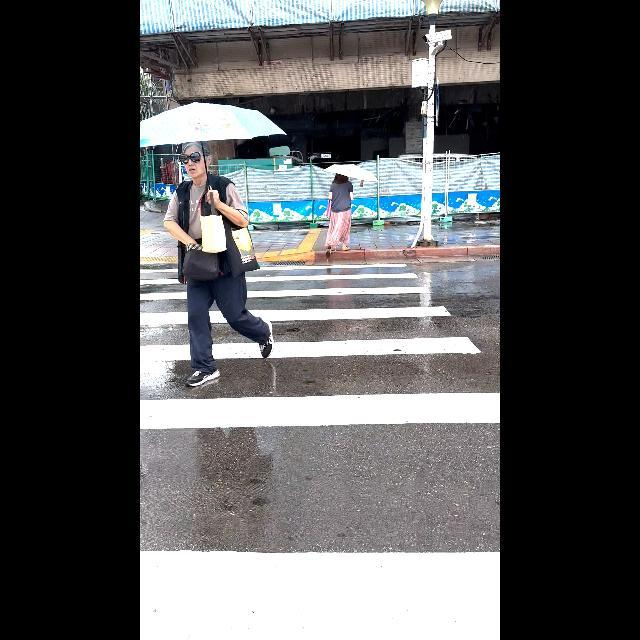sidewalk: (142, 254, 500, 640)
